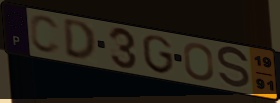3: (106, 27, 139, 72)
C: (28, 14, 63, 56)
D: (62, 19, 99, 63)
G: (140, 34, 176, 77)
O: (182, 42, 216, 82)
S: (216, 46, 252, 91)
